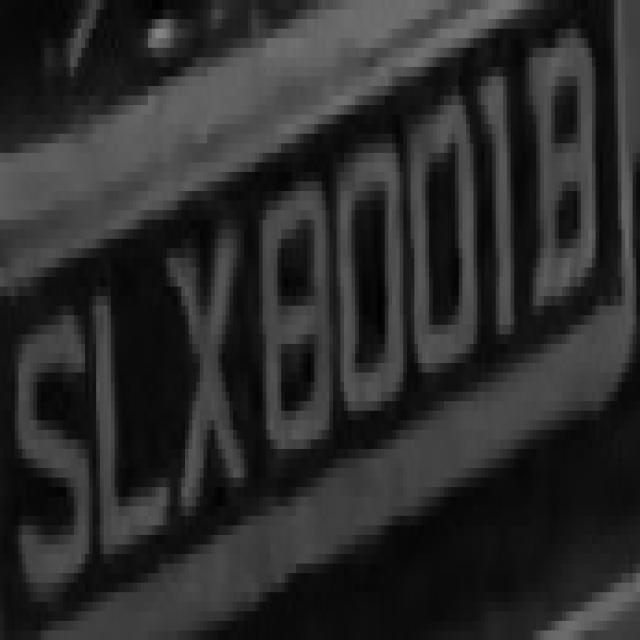0: (392, 96, 481, 382), (329, 124, 407, 420)
1: (488, 38, 533, 363)
8: (244, 144, 322, 458)
B: (518, 19, 599, 354)
L: (85, 229, 170, 564)
S: (3, 277, 88, 630)
X: (163, 153, 240, 563)
